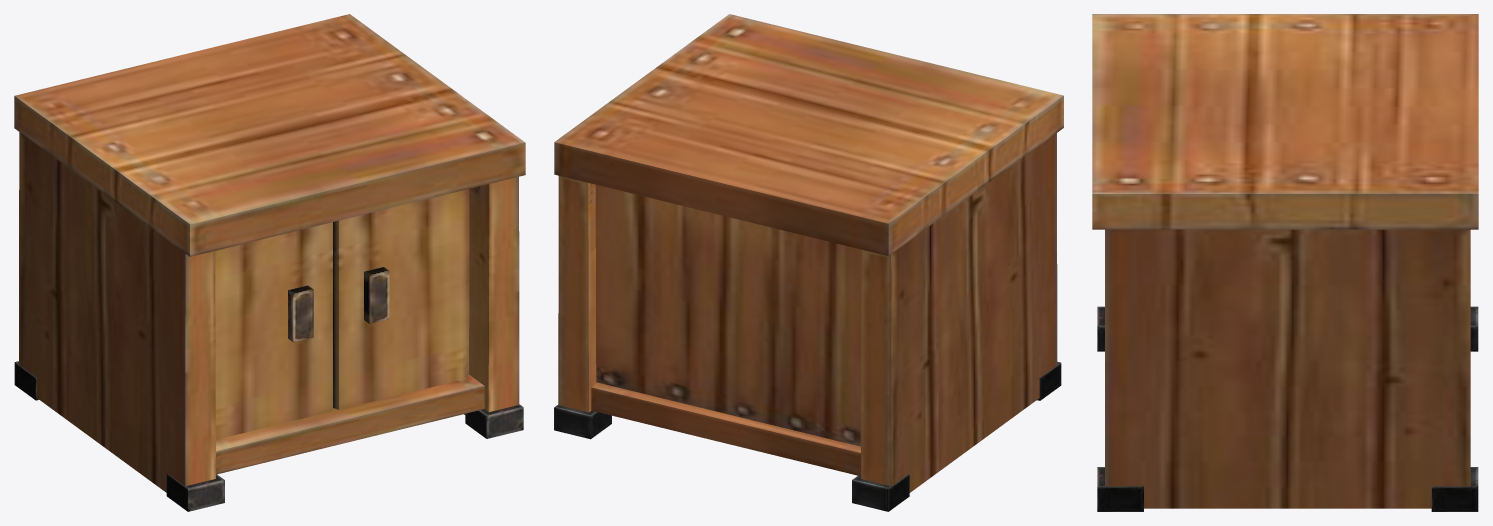
File: SM_cupboard_05.gltf
3 views of the same model, side by side, from view 1: azimuth 30°, elevation 25°; view 2: azimuth 150°, elevation 25°; view 3: azimuth 270°, elevation 25° (orthographic). The views are drawn at different scales.
Parts seen in each view (by area): view 1: SM_cupboard_05; view 2: SM_cupboard_05; view 3: SM_cupboard_05.
Part boxes in pixels (bbox=[...]): SM_cupboard_05: bbox=[14, 14, 525, 511]; SM_cupboard_05: bbox=[554, 14, 1063, 511]; SM_cupboard_05: bbox=[1092, 14, 1478, 511].
Size of the model in its own units: 0.8418 by 0.6931 by 0.7634.
Materials: 1 (1 with a texture image).
